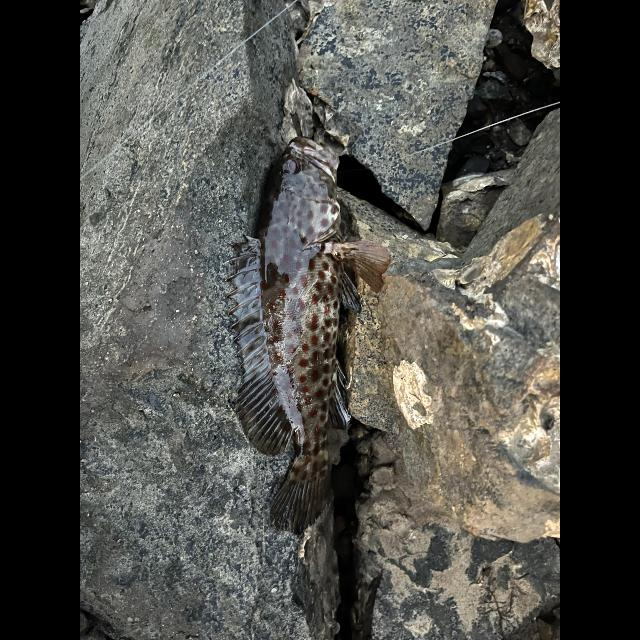Groupers: (226, 135, 394, 533)
